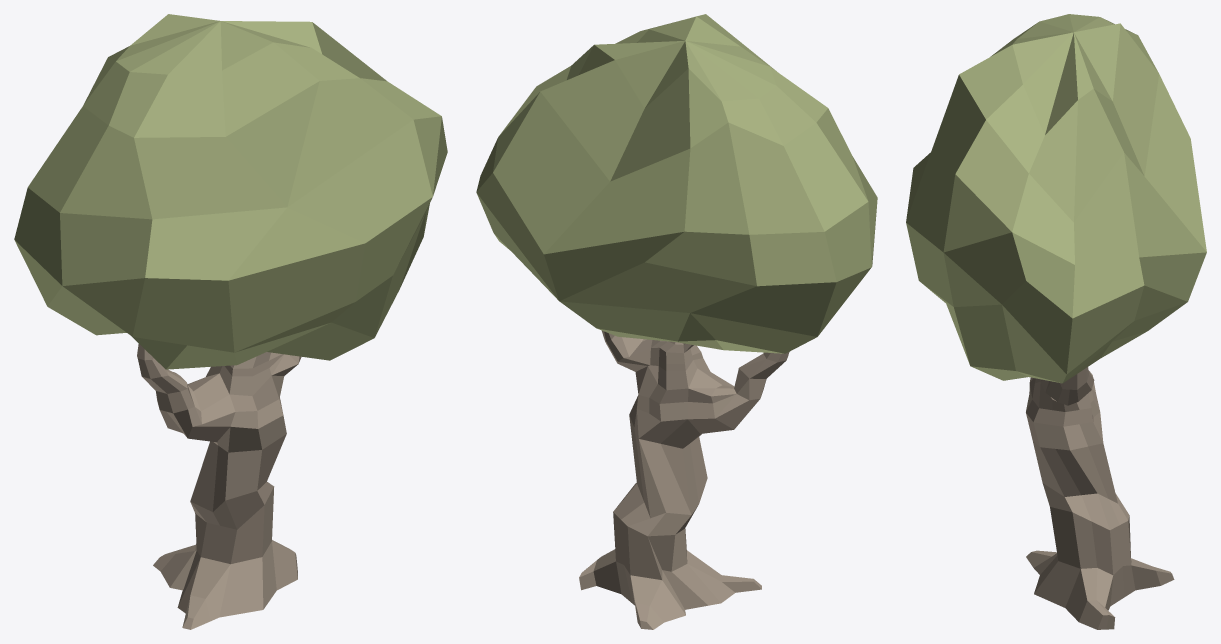
Rendered from ER_Asset_Shrub01.fbx.
3 views of the same model, side by side, from view 1: azimuth 30°, elevation 25°; view 2: azimuth 150°, elevation 25°; view 3: azimuth 270°, elevation 25° (orthographic). The views are drawn at different scales.
Parts seen in each view (by area): view 1: polySurface6467; view 2: polySurface6467; view 3: polySurface6467.
Part boxes in pixels (x1,y1,x2,y2): polySurface6467: (14,14,447,629); polySurface6467: (476,14,877,629); polySurface6467: (906,14,1206,629).
Bounding box in the file's own units: 1.25 × 1.75 × 0.8601.
